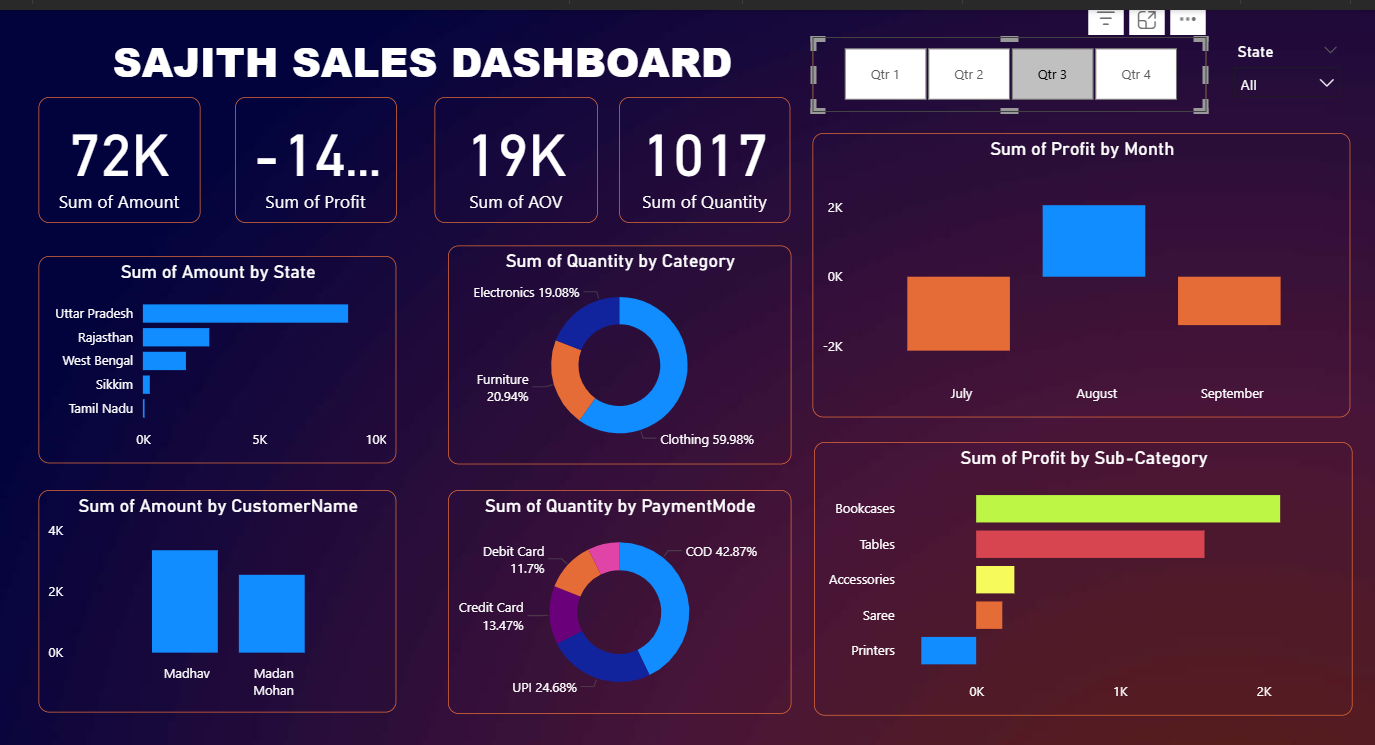

The dashboard page shown, as its layout file describes it:
{"tool":"powerbi","page":{"name":"Page 1","canvas":[1280,720],"ordinal":0},"visuals":[{"type":"clusteredBarChart","fields":{"Y":["Sum(Details.Profit)"],"Category":["Details.Sub-Category"]},"box":[757.8,413.9,498.9,253.2],"z":0},{"type":"donutChart","fields":{"Category":["Details.PaymentMode"],"Y":["Sum(Details.Quantity)"]},"box":[419.4,458.8,318,207.4],"z":1000},{"type":"columnChart","fields":{"Y":["Sum(Details.Profit)"],"Category":["Orders.Order Date.Variation.Date Hierarchy.Month"]},"box":[757.1,127.2,498.2,263.5],"z":2000},{"type":"donutChart","fields":{"Category":["Details.Category"],"Y":["Sum(Details.Quantity)"]},"box":[419.4,231.7,318,202.9],"z":3000},{"type":"columnChart","fields":{"Y":["Sum(Details.Amount)"],"Category":["Orders.CustomerName"]},"box":[40.9,458.8,331.6,205.9],"z":4000},{"type":"barChart","fields":{"Category":["Orders.State"],"Y":["Sum(Details.Amount)"]},"box":[40.9,242.3,331.6,192.3],"z":5000},{"type":"slicer","fields":{"Values":["Orders.Order Date.Variation.Date Hierarchy.Quarter"]},"box":[757.1,39.4,364.9,69.7],"z":6000},{"type":"card","fields":{"Values":["Sum(Details.Amount)"]},"box":[40.9,93.9,149.9,116.6],"z":7000},{"type":"card","fields":{"Values":["Sum(Details.Quantity)"]},"box":[578.4,93.9,159,116.6],"z":8000},{"type":"card","fields":{"Values":["Sum(Details.Profit)"]},"box":[222.6,93.9,149.9,116.6],"z":9000},{"type":"card","fields":{"Values":["Sum(Details.AOV)"]},"box":[407.3,93.9,151.4,116.6],"z":10000},{"type":"textbox","box":[92.4,28.8,605.7,65.1],"z":11000},{"type":"slicer","fields":{"Values":["Orders.State"]},"box":[1137.2,39.4,118.1,69.7],"z":12000}]}

Visuals, with their boxes on the page's 1280x720 design canvas (x1, y1, x2, y2). These are canvas units, not pixel positions in the 1375x745 screenshot, which may show the page scaled, cropped or inside an application window:
clusteredBarChart - Sum(Details.Profit) x Details.Sub-Category: [left=758, top=414, right=1257, bottom=667]
donutChart - Details.PaymentMode x Sum(Details.Quantity): [left=419, top=459, right=737, bottom=666]
columnChart - Sum(Details.Profit) x Orders.Order Date.Variation.Date Hierarchy.Month: [left=757, top=127, right=1255, bottom=391]
donutChart - Details.Category x Sum(Details.Quantity): [left=419, top=232, right=737, bottom=435]
columnChart - Sum(Details.Amount) x Orders.CustomerName: [left=41, top=459, right=372, bottom=665]
barChart - Orders.State x Sum(Details.Amount): [left=41, top=242, right=372, bottom=435]
slicer - Orders.Order Date.Variation.Date Hierarchy.Quarter: [left=757, top=39, right=1122, bottom=109]
card - Sum(Details.Amount): [left=41, top=94, right=191, bottom=210]
card - Sum(Details.Quantity): [left=578, top=94, right=737, bottom=210]
card - Sum(Details.Profit): [left=223, top=94, right=372, bottom=210]
card - Sum(Details.AOV): [left=407, top=94, right=559, bottom=210]
textbox: [left=92, top=29, right=698, bottom=94]
slicer - Orders.State: [left=1137, top=39, right=1255, bottom=109]
